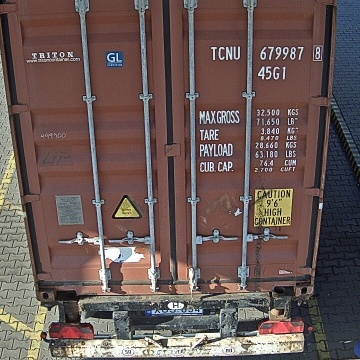serial_id: (211, 45, 323, 60)
